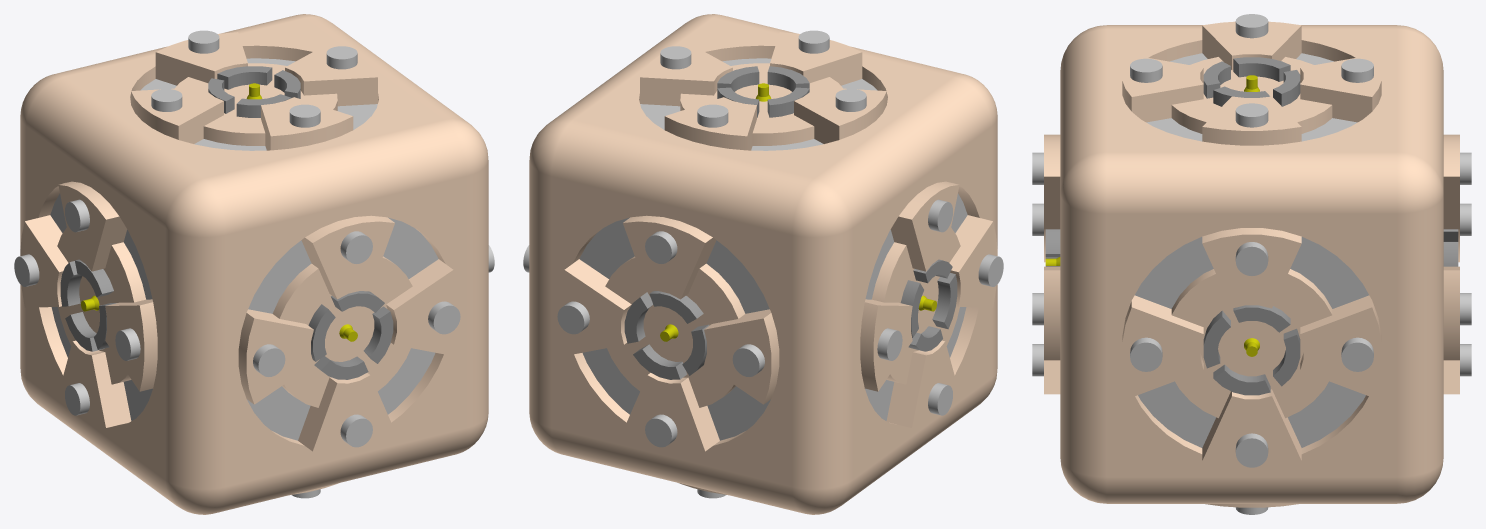
File: minimum.dae
3 views of the same model, side by side, from view 1: azimuth 30°, elevation 25°; view 2: azimuth 150°, elevation 25°; view 3: azimuth 270°, elevation 25° (orthographic). The views are drawn at different scales.
Visible parts, largest first — view 1: Actor0; view 2: Actor0; view 3: Actor0.
Boxes of the visible parts, left/top/right/bottom form: Actor0: left=14, top=14, right=494, bottom=514; Actor0: left=523, top=14, right=1003, bottom=514; Actor0: left=1032, top=14, right=1471, bottom=514.
Size of the model in its own units: 0.048 by 0.048 by 0.048.
